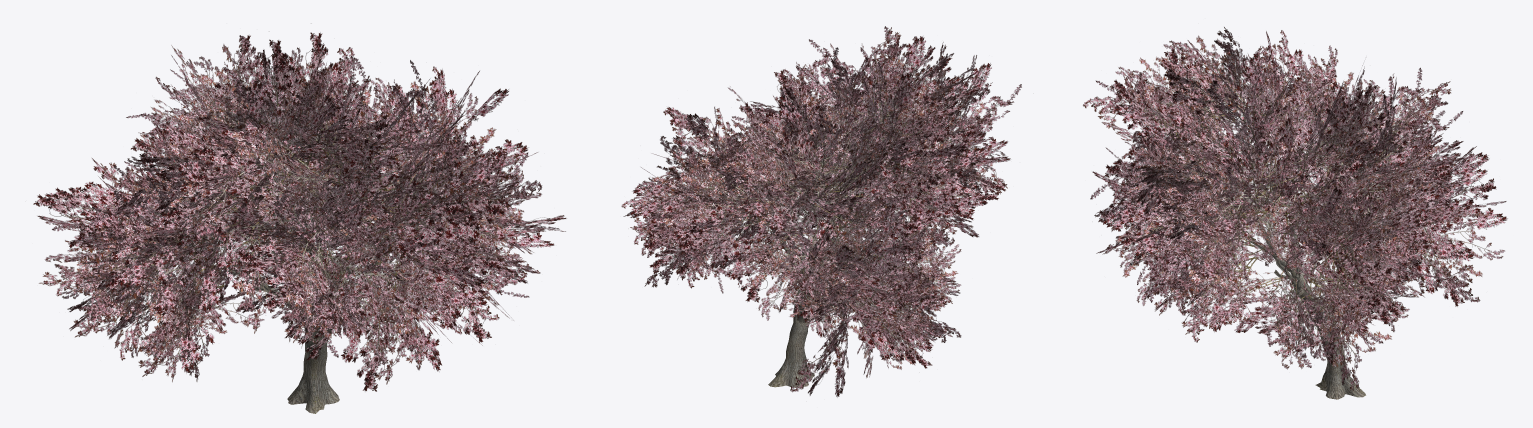
The model's file is Japanese_Cherry_Tree_low-Poly.glb.
3 renders of one model, left to right at view 1: azimuth 30°, elevation 25°; view 2: azimuth 150°, elevation 25°; view 3: azimuth 270°, elevation 25°, orthographic. The views are drawn at different scales.
Visible parts, largest first — view 1: unnamed (×7); view 2: unnamed (×7); view 3: unnamed (×7).
Boxes of the visible parts, left/top/right/bottom form: unnamed (×7): left=33, top=32, right=566, bottom=413; unnamed (×7): left=621, top=26, right=1021, bottom=397; unnamed (×7): left=1083, top=27, right=1507, bottom=399.
Size of the model in its own units: 10.73 by 9.23 by 10.69.
7 materials, 7 textured.
